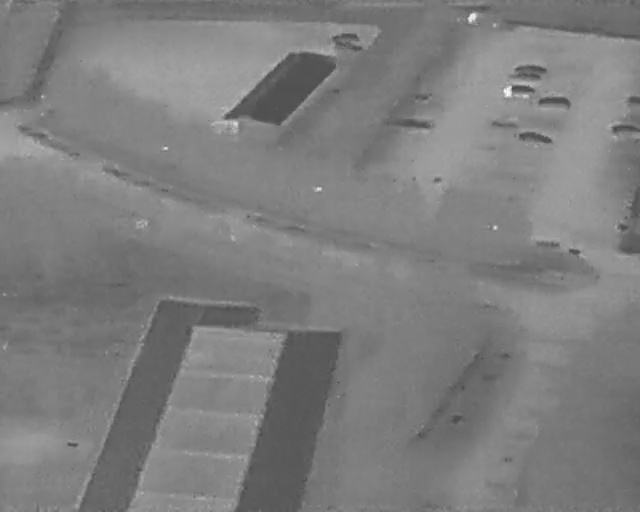Car: (610, 121, 640, 140), (518, 132, 552, 146), (502, 86, 535, 99), (539, 97, 571, 110), (508, 74, 542, 86), (514, 65, 547, 76), (331, 32, 361, 43), (334, 42, 363, 53), (627, 97, 640, 112)
